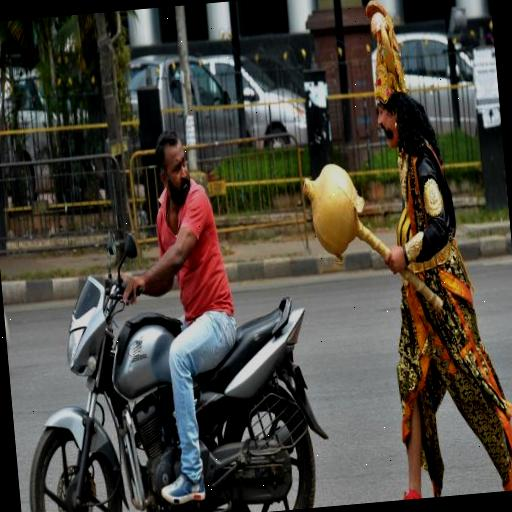no helmet: (104, 95, 286, 512)
